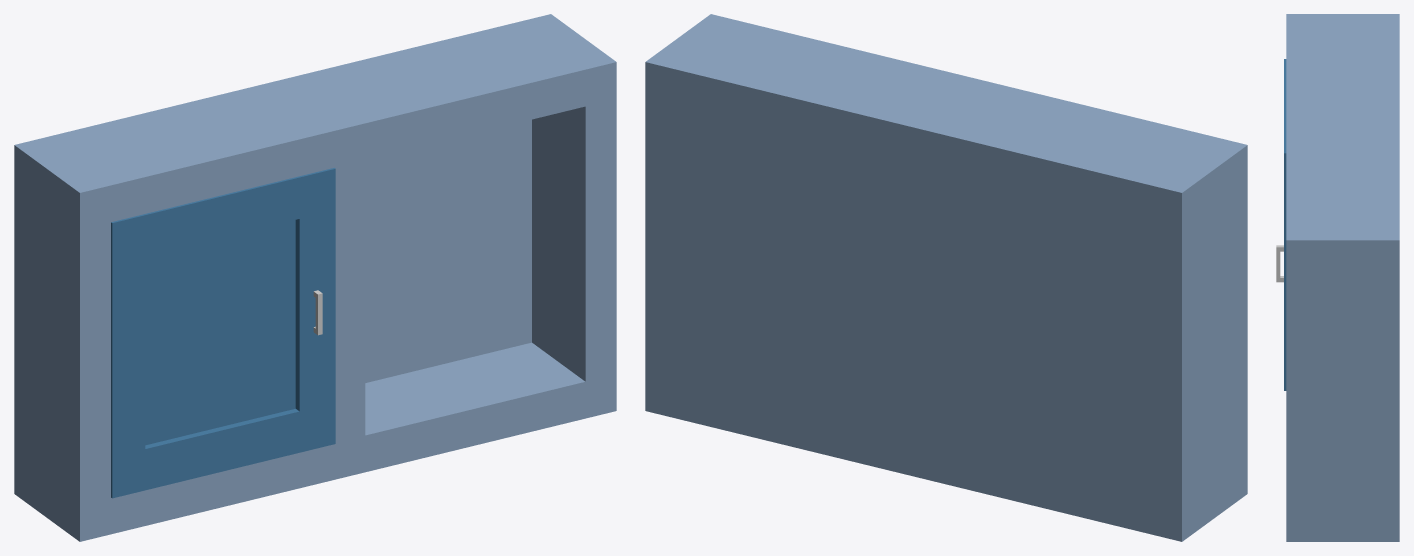
File: H_Cabinet_3.fbx
The picture shows the model from 3 angles, left to right: view 1: azimuth 30°, elevation 25°; view 2: azimuth 150°, elevation 25°; view 3: azimuth 270°, elevation 25°; orthographic projection. The views are drawn at different scales.
Visible parts, largest first — view 1: H_Cabinet_3; view 2: H_Cabinet_3; view 3: H_Cabinet_3.
Boxes of the visible parts, x1,y1,x2,y2 form: H_Cabinet_3: (14,14,616,541); H_Cabinet_3: (645,14,1247,541); H_Cabinet_3: (1276,14,1399,541).
Size of the model in its own units: 746 by 171 by 463.
